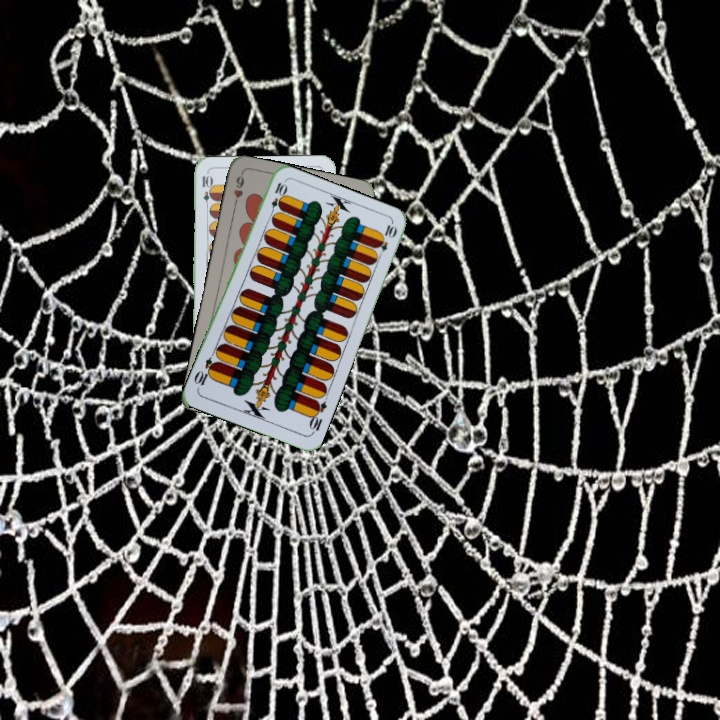E10: (305, 396, 329, 437), (266, 178, 288, 218), (198, 171, 212, 212)
H9: (229, 170, 247, 210)
